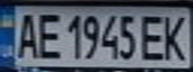1: (60, 10, 84, 60)
4: (100, 11, 121, 61)
5: (115, 11, 142, 61)
9: (78, 11, 103, 60)
A: (12, 9, 42, 60)
E: (33, 9, 63, 60), (139, 11, 169, 62)
K: (160, 11, 193, 62)
